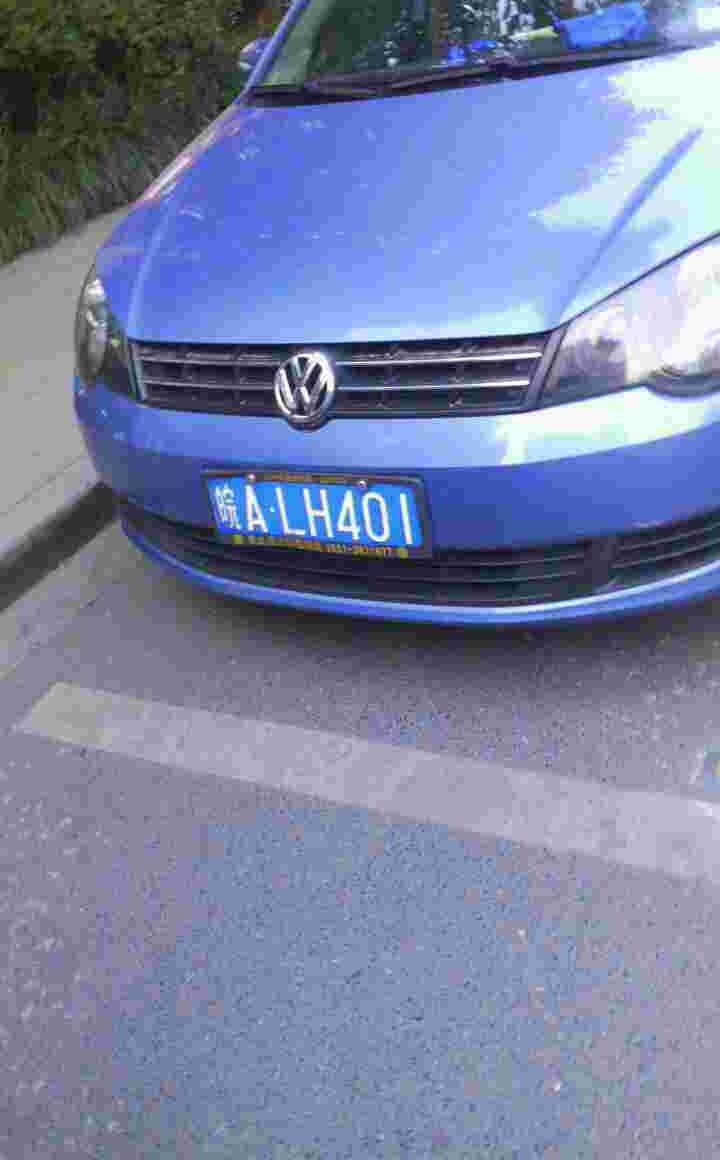license_plate: (212, 480, 438, 547)
